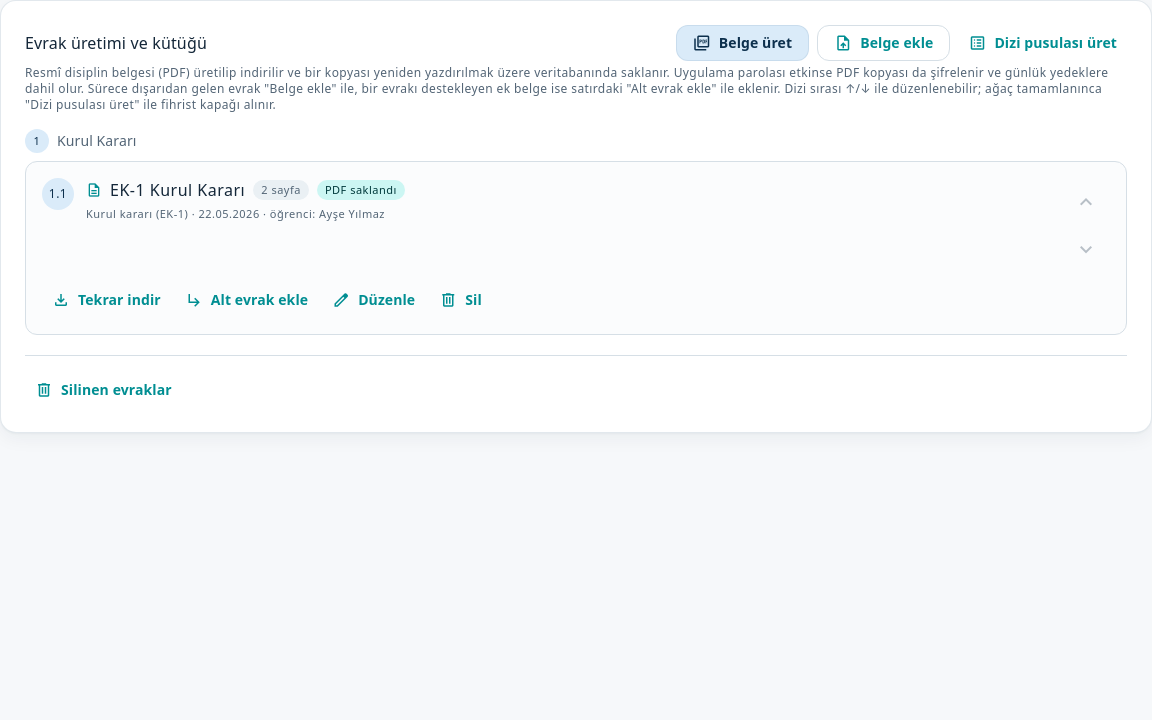
Scenario: DocumentsSection — saklanan PDF kopyaları › yeniden indirme eylemini ve en altta Silinen evraklar bölümünü gösterir
Expected: the text "PDF saklandı" is shown, [317, 180, 405, 200]
Expected: the button "Tekrar indir" is shown, [42, 282, 171, 318]
Click the button "Silinen evraklar" at (103, 390), box [25, 372, 182, 408]
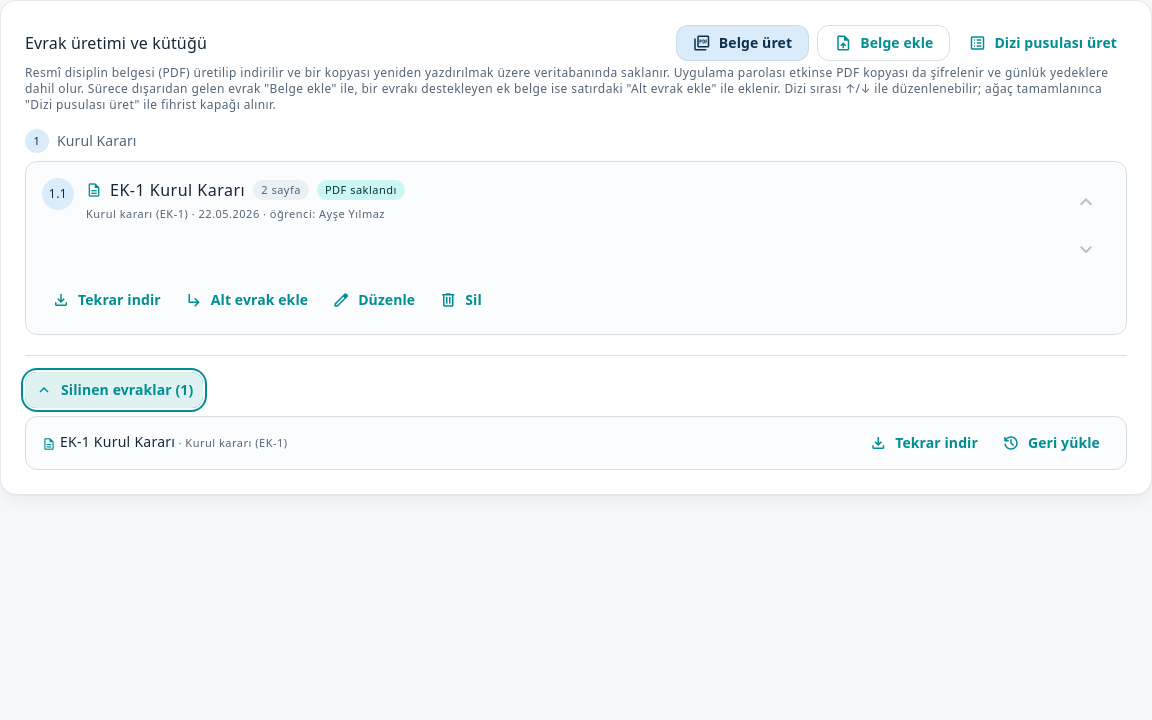
Expected: the text "Silinen evraklar (1)" is shown, [61, 380, 193, 400]
Expected: the number of buttons "Tekrar indir" is 2, [42, 282, 171, 318]; [859, 425, 988, 461]
